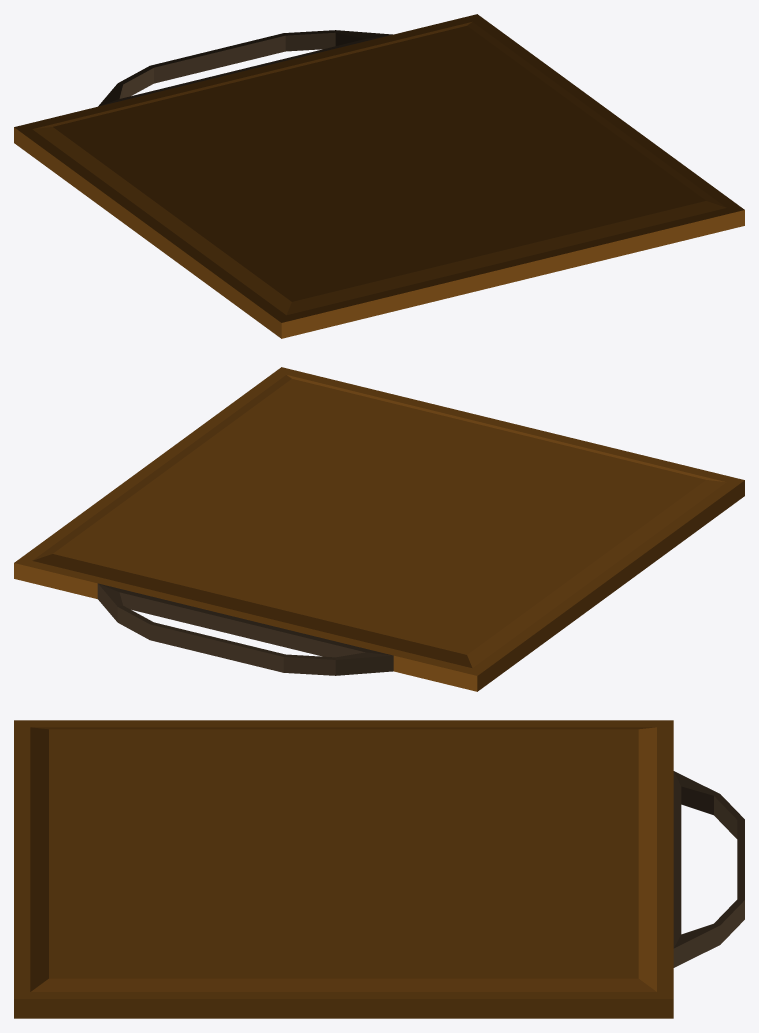
The model's file is Wooden Tray.fbx.
3 renders of one model, top to bottom at view 1: azimuth 30°, elevation 25°; view 2: azimuth 150°, elevation 25°; view 3: azimuth 270°, elevation 25°, orthographic. The views are drawn at different scales.
Visible parts, largest first — view 1: Node 0; view 2: Node 0; view 3: Node 0.
Boxes of the visible parts, <box> form: Node 0: <box>14,14,744,338</box>; Node 0: <box>14,367,744,691</box>; Node 0: <box>14,720,744,1018</box>.
Size of the model in its own units: 0.8744 by 0.0335 by 0.789.
